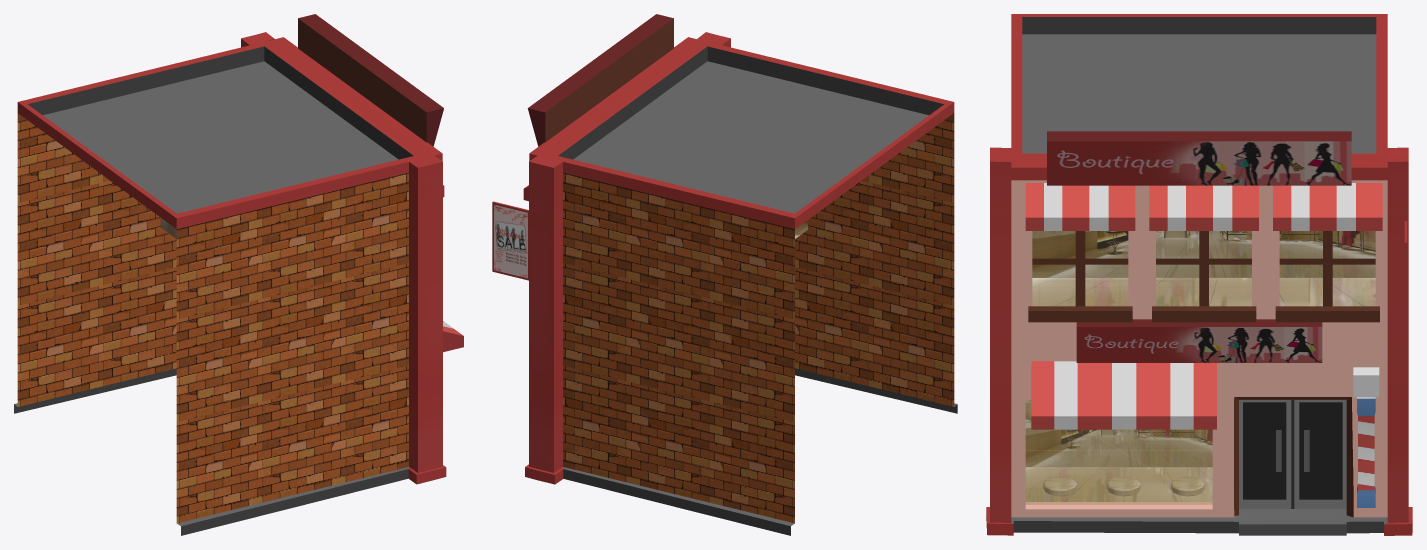
Rendered from boutique.FBX.
3 views of the same model, side by side, from view 1: azimuth 30°, elevation 25°; view 2: azimuth 150°, elevation 25°; view 3: azimuth 270°, elevation 25° (orthographic). The views are drawn at different scales.
Visible parts, largest first — view 1: boutique; view 2: boutique, banner; view 3: boutique, glass003, glass005, glass, glass002, Cylinder004, Cylinder003, Cylinder005.
Boxes of the visible parts, x1,y1,x2,y2 form: boutique: (14, 14, 463, 535); boutique: (523, 14, 957, 535); banner: (492, 201, 528, 280); boutique: (986, 14, 1412, 535); glass003: (1032, 231, 1375, 306); glass005: (1032, 231, 1375, 305); glass: (1025, 400, 1212, 504); glass002: (1025, 400, 1212, 501); Cylinder004: (1106, 476, 1140, 496); Cylinder003: (1170, 476, 1204, 496); Cylinder005: (1043, 476, 1076, 496).
Bounding box in the file's own units: 524 × 585 × 553.
